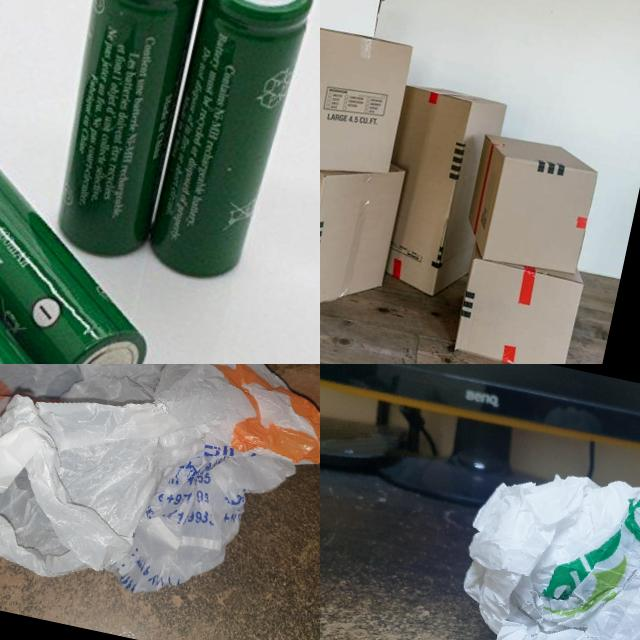bateria: (146, 0, 320, 289), (0, 108, 184, 364), (39, 0, 211, 265)
papelão: (364, 79, 508, 305), (457, 128, 604, 278), (450, 243, 587, 364), (320, 139, 408, 327), (320, 19, 416, 189)
sacola plástica: (0, 364, 320, 632), (417, 441, 640, 640)
